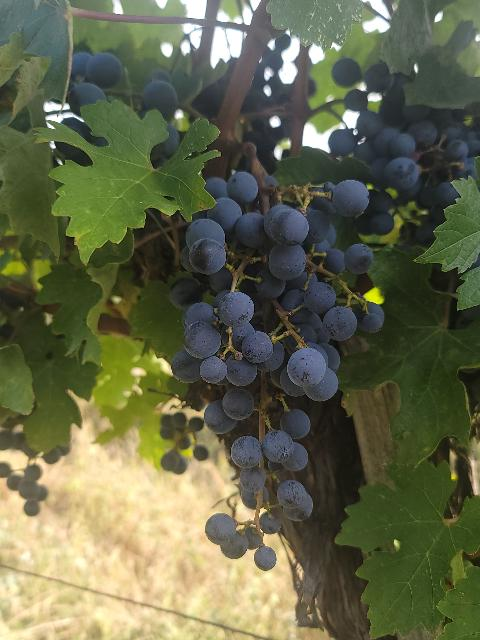grapes: (172, 141, 384, 570), (180, 172, 358, 532)
